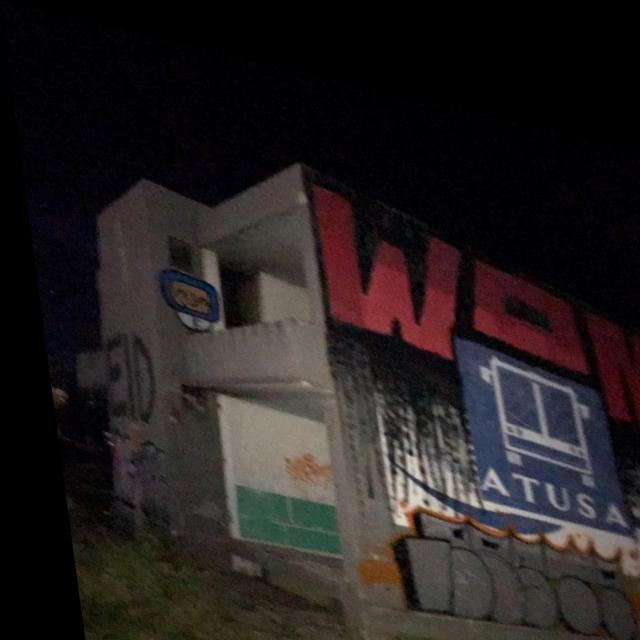-: (291, 147, 640, 410), (377, 486, 640, 631), (146, 256, 218, 334), (268, 437, 328, 481)
